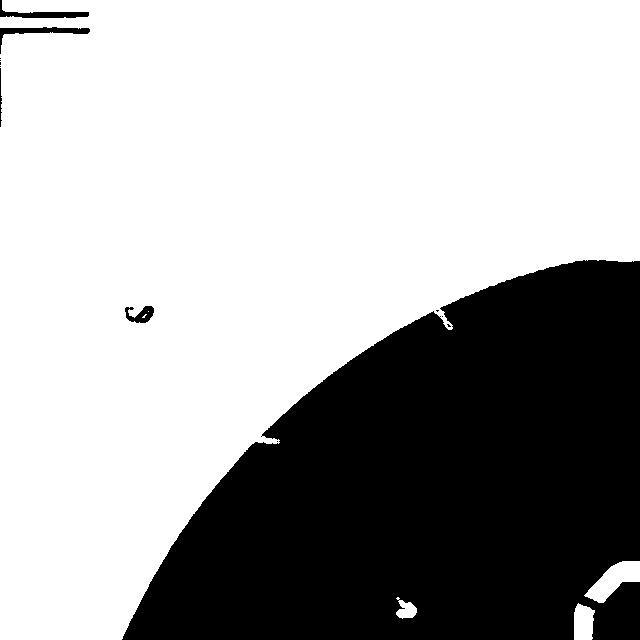copper: (115, 296, 163, 332)
mousebite: (418, 296, 462, 339), (239, 426, 289, 453)
pin-hole: (386, 587, 426, 627)
short: (566, 585, 614, 621)
